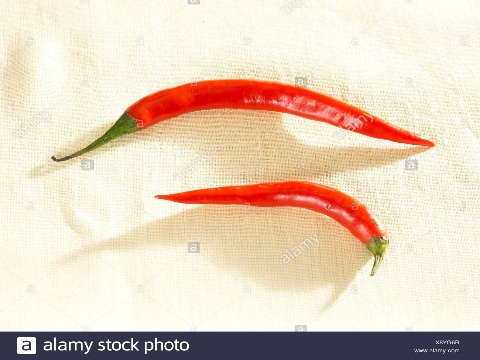Chilli: (19, 76, 448, 165), (145, 167, 402, 281)
